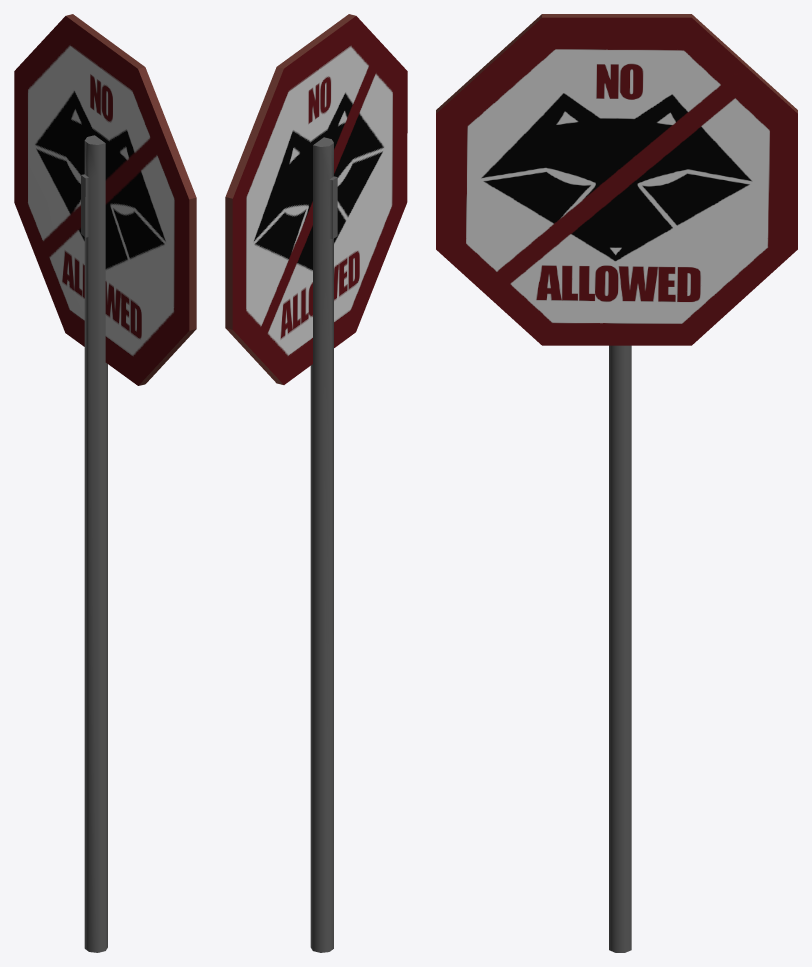
File: ActualSignPost.fbx
The picture shows the model from 3 angles, left to right: view 1: azimuth 30°, elevation 25°; view 2: azimuth 150°, elevation 25°; view 3: azimuth 270°, elevation 25°; orthographic projection. The views are drawn at different scales.
Visible parts, largest first — view 1: Signpost1; view 2: Signpost1; view 3: Signpost1.
Boxes of the visible parts, box(x1,y1,x2,y2) form: Signpost1: box(14, 14, 196, 952); Signpost1: box(225, 14, 407, 952); Signpost1: box(436, 14, 797, 952).
Size of the model in its own units: 0.1493 by 5.28 by 1.85.
Materials: 3 (1 with a texture image).
